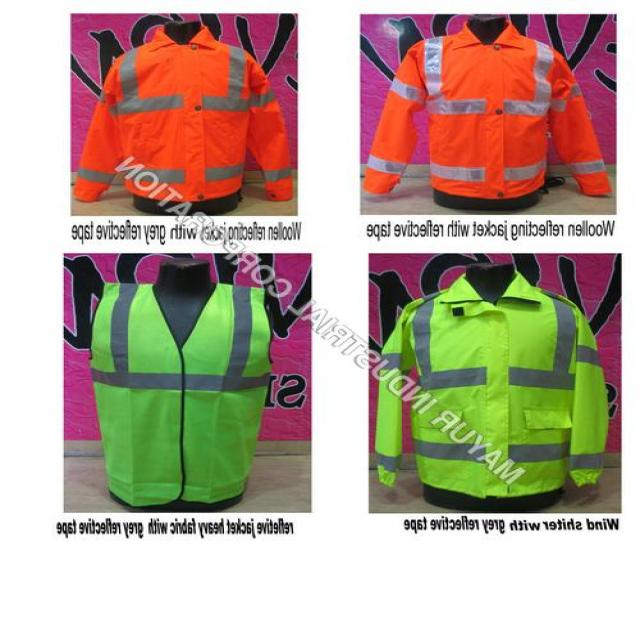Reflective-Jacket: (389, 287, 615, 514), (87, 277, 280, 510), (368, 35, 582, 211), (76, 40, 279, 210)
